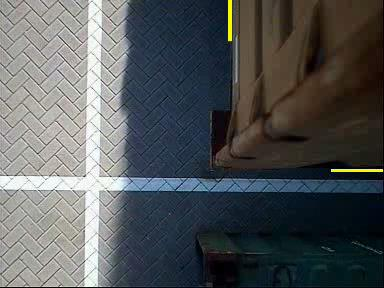groundmarker_2: (103, 90, 173, 150), (106, 197, 176, 257)
